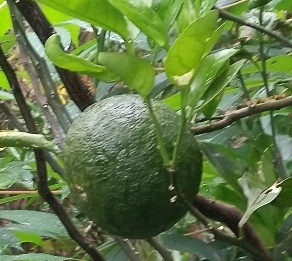Cam: (60, 92, 205, 240)
